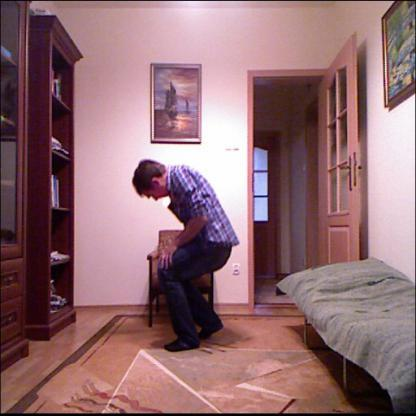fall: (127, 156, 240, 350)
